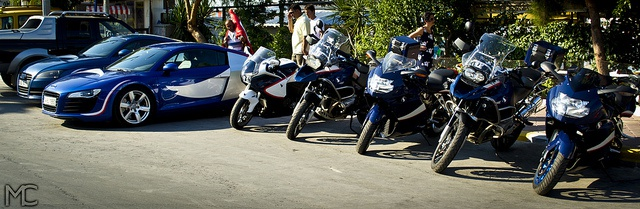non-vehicle: (429, 20, 565, 172), (531, 59, 639, 196), (354, 34, 459, 155), (285, 18, 383, 139), (229, 45, 319, 130)
